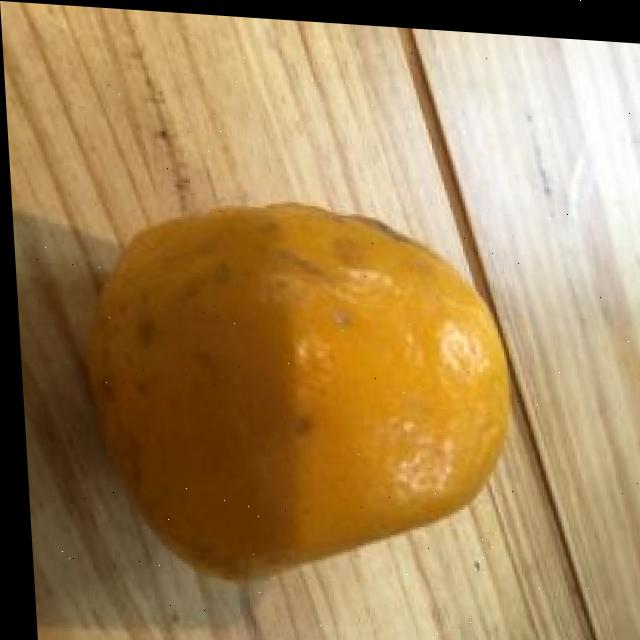Wet: (70, 170, 524, 591)
